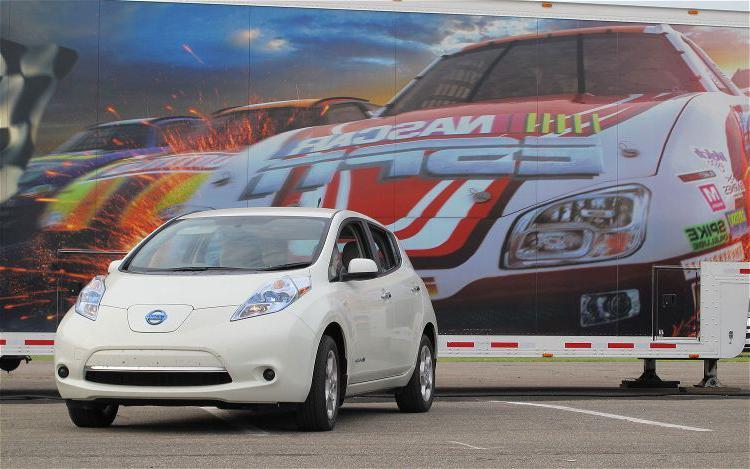Car: (40, 193, 468, 447)
